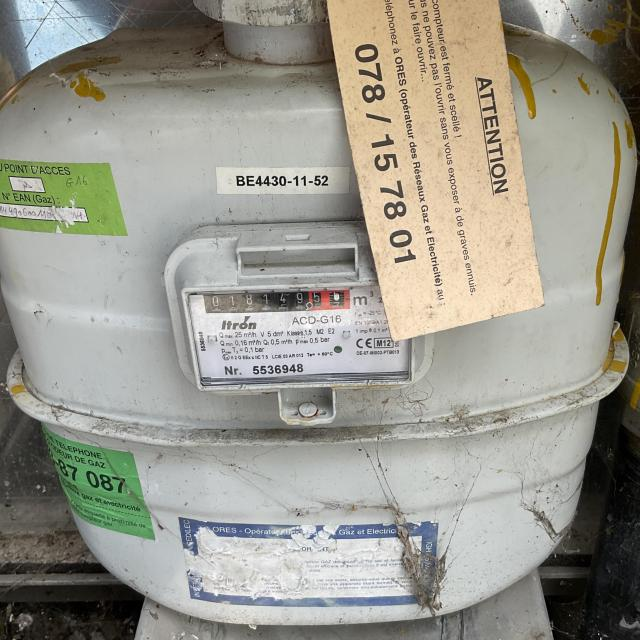gaz_meter: (188, 284, 413, 389)
indication: (203, 289, 350, 314)
